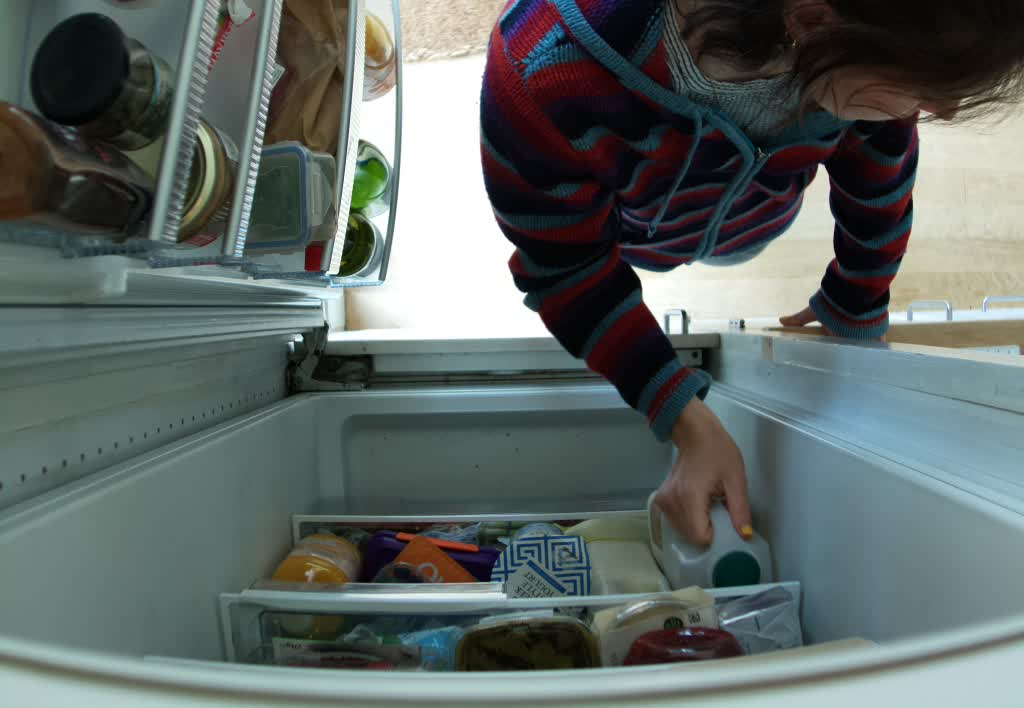milk: (647, 498, 777, 587)
